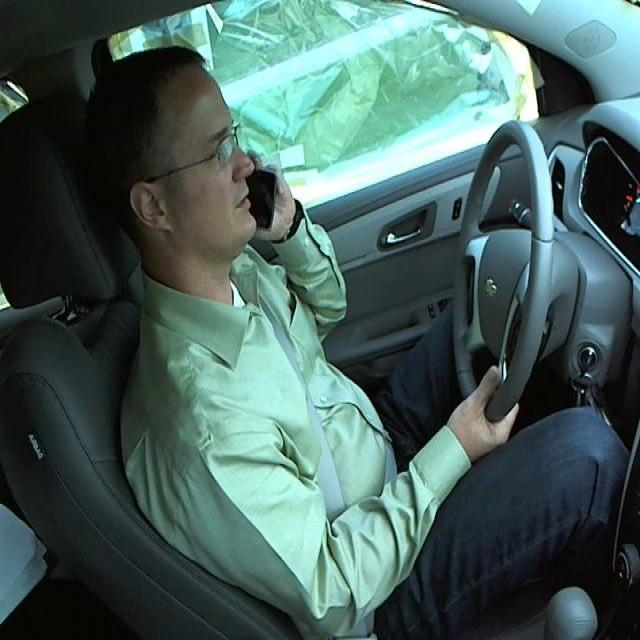without_using_phone: (40, 24, 334, 360)
